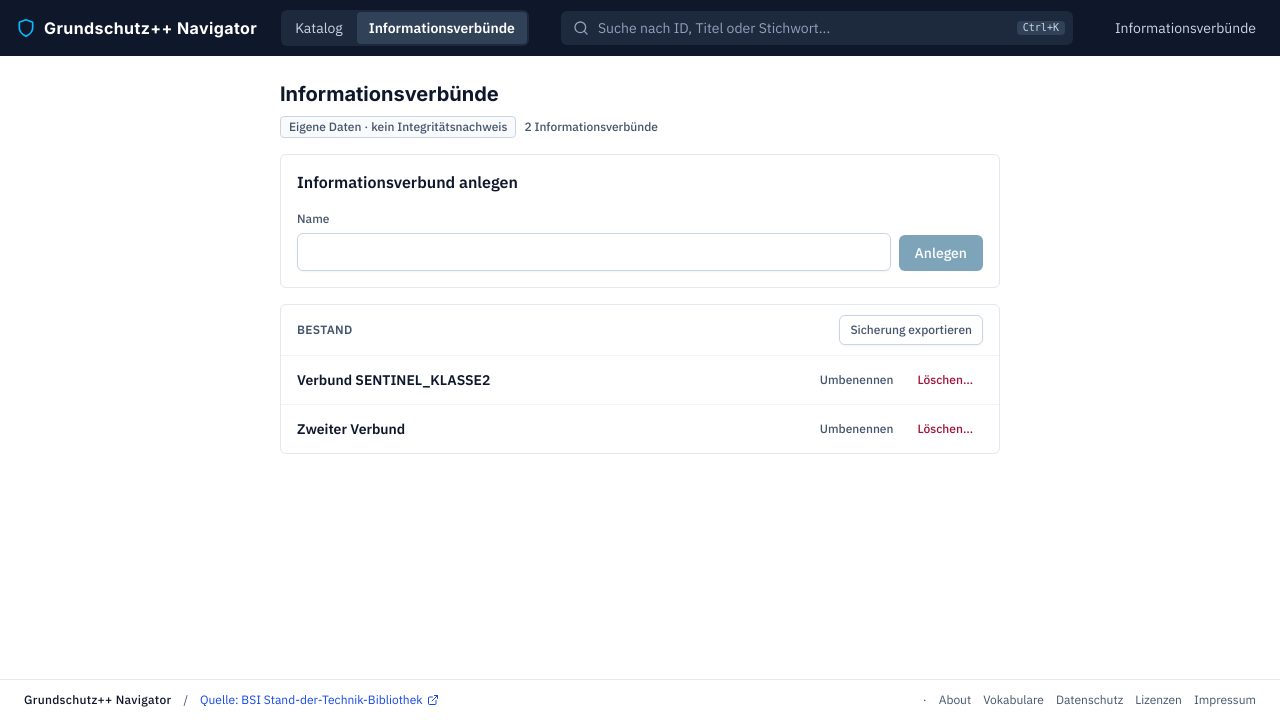
Test: Übersicht der Informationsverbünde › listet die Verbünde aus dem Speicher und legt neue an
Step 1. Type "Rechenzentrum Nord" into the field labelled "Name" → (594, 252), box x1=297 y1=233 x2=890 y2=271
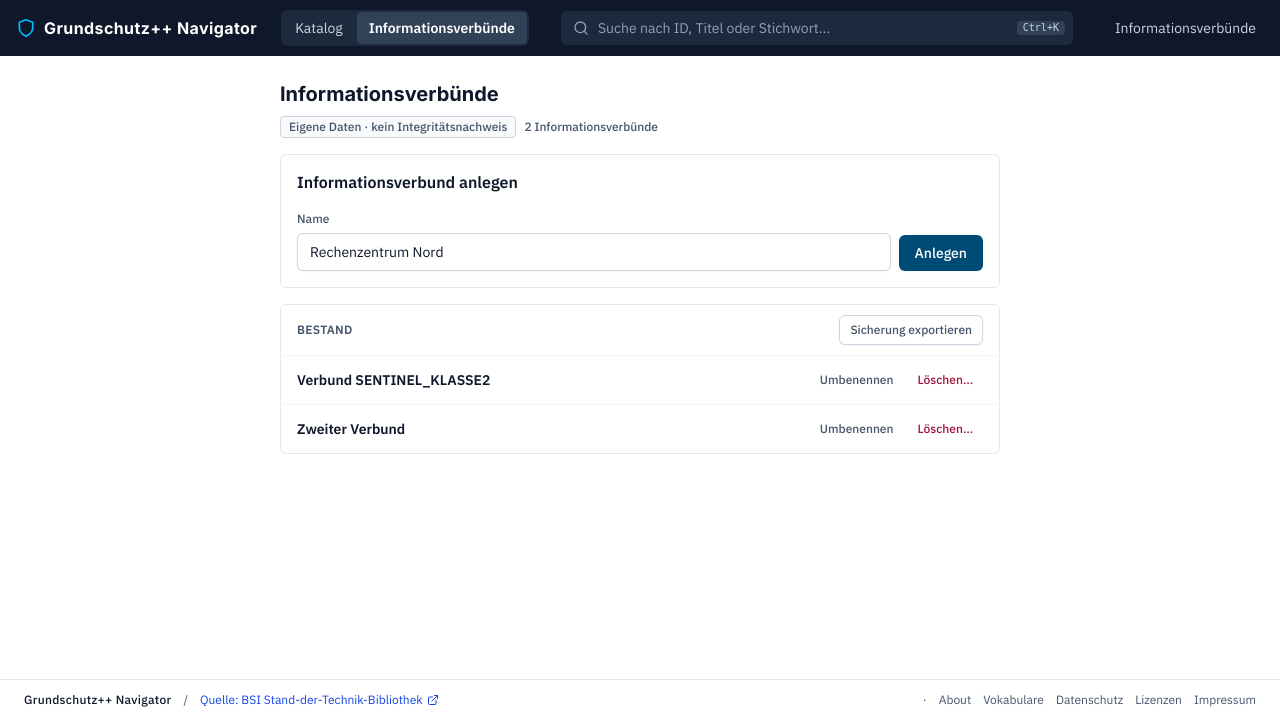
Step 2. Click the button "Anlegen" → (941, 253), box x1=898 y1=235 x2=983 y2=271
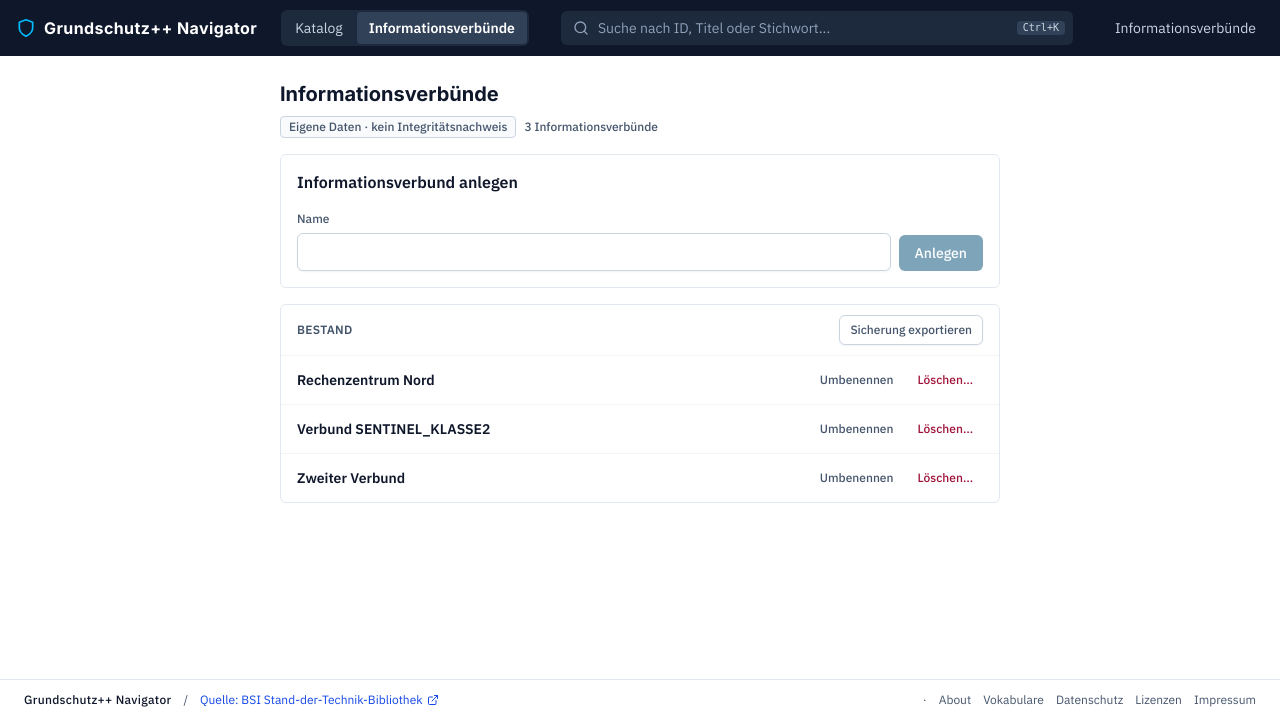
Expected: the link "Rechenzentrum Nord" is shown, x1=297 y1=371 x2=435 y2=389
